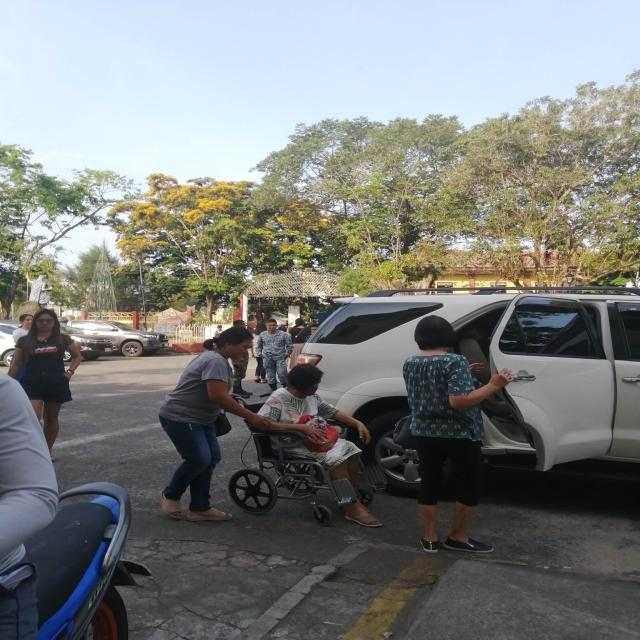wheelchairs: (229, 391, 386, 528)
